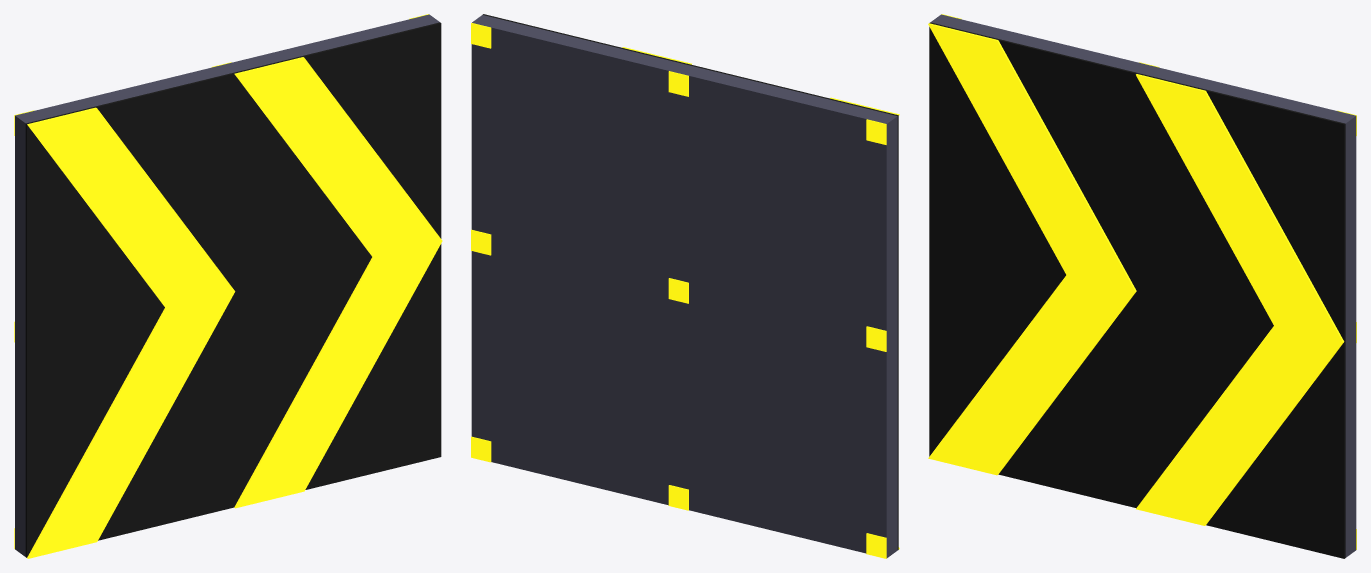
File: Arrow_Billboard.fbx
3 views of the same model, side by side, from view 1: azimuth 30°, elevation 25°; view 2: azimuth 150°, elevation 25°; view 3: azimuth 330°, elevation 25° (orthographic).
Parts seen in each view (by area): view 1: Billboard_Emissive, Arrows, Billboard_Backing; view 2: Billboard_Backing, Dots_Backside, Billboard_Emissive; view 3: Billboard_Emissive, Arrows, Billboard_Backing.
Part boxes in pixels (<box>): Billboard_Emissive: <box>25,22,441,557</box>; Arrows: <box>27,57,442,558</box>; Billboard_Backing: <box>15,14,439,556</box>; Billboard_Backing: <box>471,15,897,558</box>; Dots_Backside: <box>471,23,886,558</box>; Billboard_Emissive: <box>482,14,898,549</box>; Billboard_Emissive: <box>929,22,1345,558</box>; Arrows: <box>928,23,1344,525</box>; Billboard_Backing: <box>931,14,1356,557</box>.
Size of the model in its own units: 2000 by 2000 by 115.
